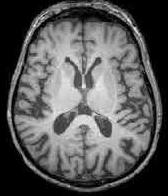Normal_Brain: (1, 1, 168, 196)
